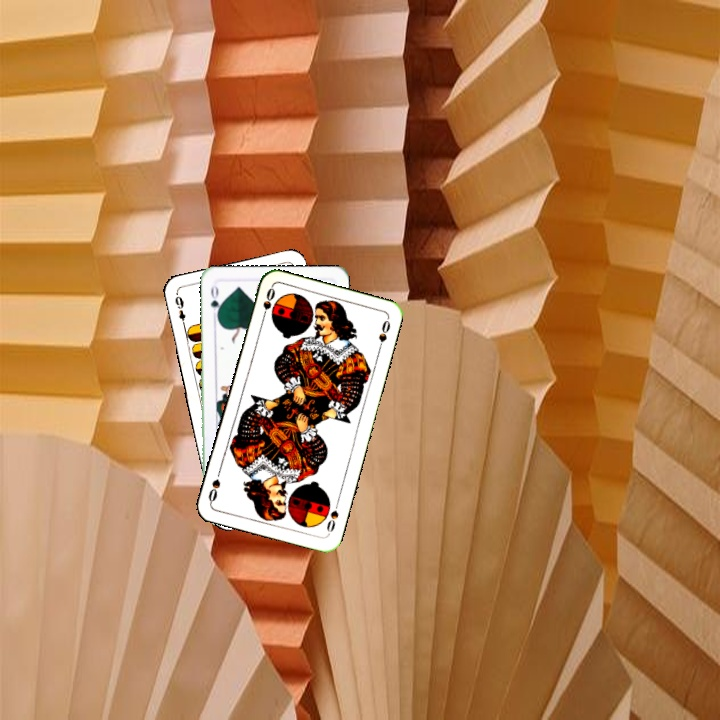E9: (171, 290, 188, 330)
GO: (206, 282, 223, 322)
SO: (258, 284, 278, 323), (322, 497, 341, 537)
